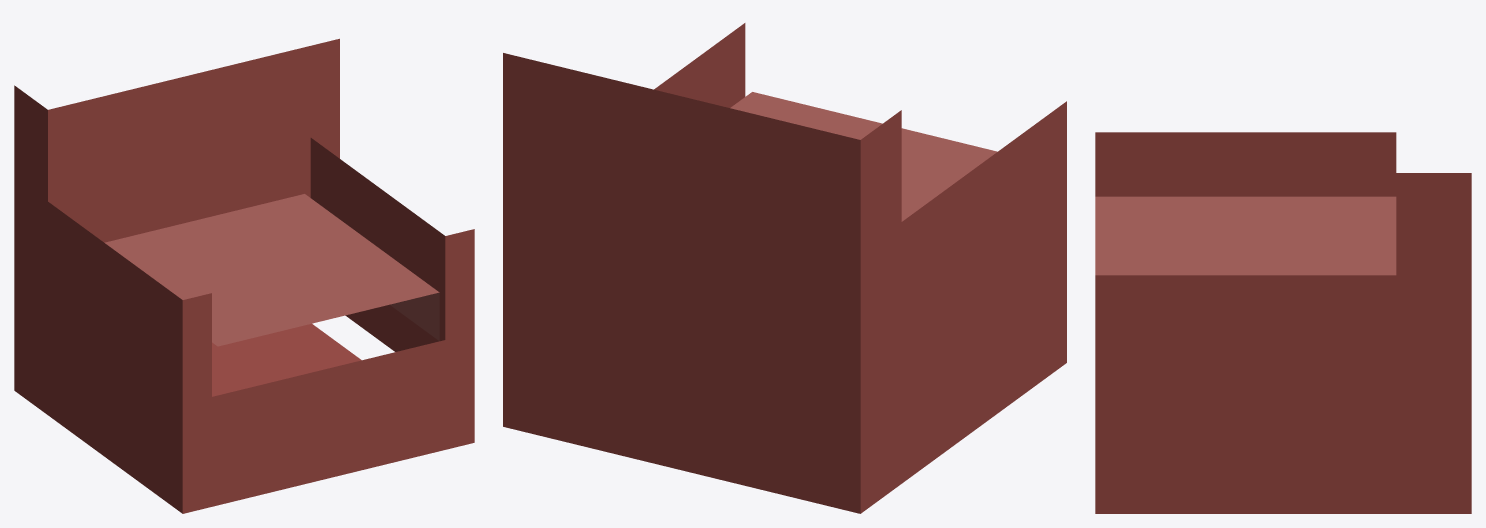
The model's file is Sofa-red.glb.
3 renders of one model, left to right at view 1: azimuth 30°, elevation 25°; view 2: azimuth 150°, elevation 25°; view 3: azimuth 270°, elevation 25°, orthographic. The views are drawn at different scales.
Visible parts, largest first — view 1: Sofa; view 2: Sofa; view 3: Sofa.
Boxes of the visible parts, x1,y1,x2,y2 form: Sofa: (14,38,474,513); Sofa: (503,23,1066,513); Sofa: (1095,132,1471,513).
Size of the model in its own units: 1 by 1 by 1.
